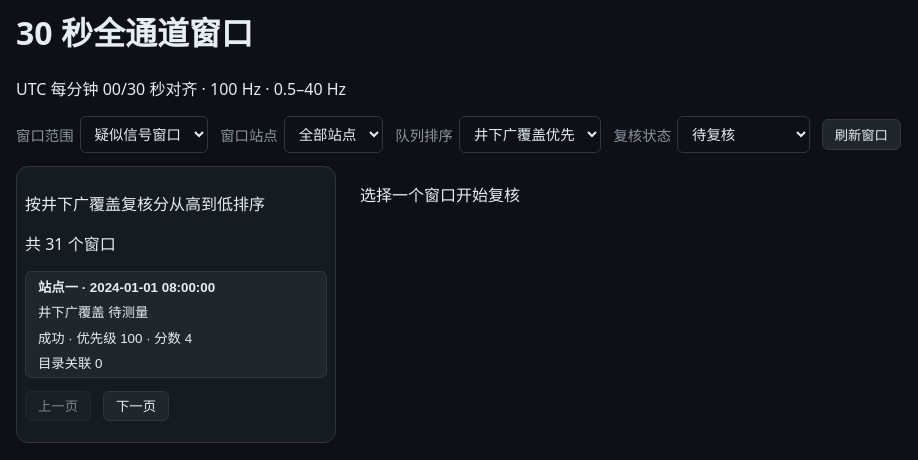
Scenario: resets the page when changing sorting and retains the selected station and review filter
This screenshot has width=918, height=460.
Select "站点一" in the dropdown labelled "窗口站点". click: (334, 135)
box: [284,116,383,153]
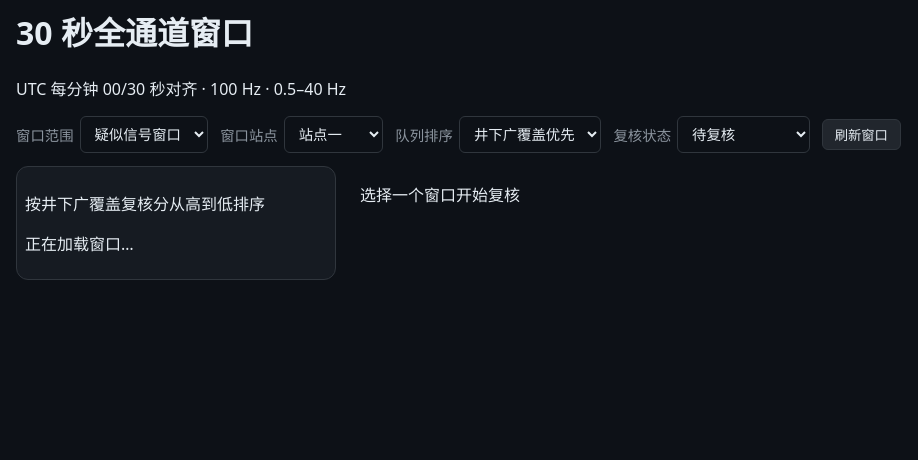
Select "已复核·地震类" in the dropdown labelled "复核状态". click: (744, 135)
box: [677,116,810,153]
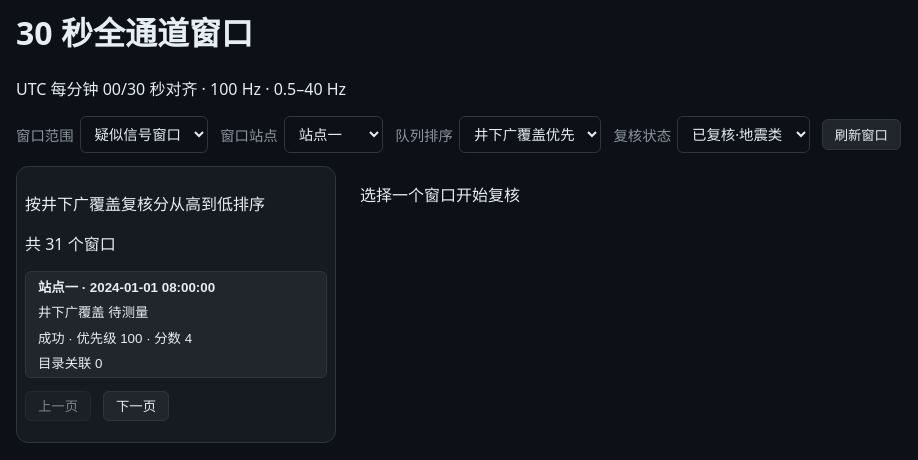
Click the button with aria-label "下一页窗口". click: (136, 406)
box: [103,391,169,421]
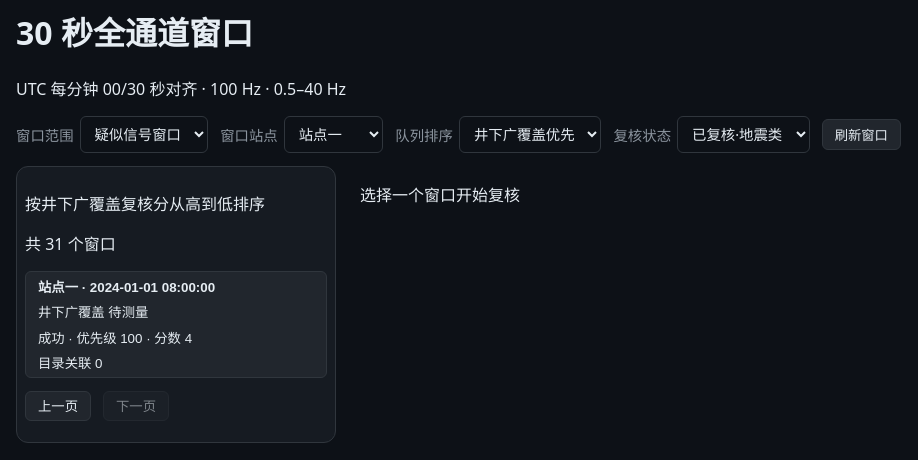
Select "原有排序" in the dropdown labelled "队列排序". click: (530, 135)
box: [459,116,602,153]
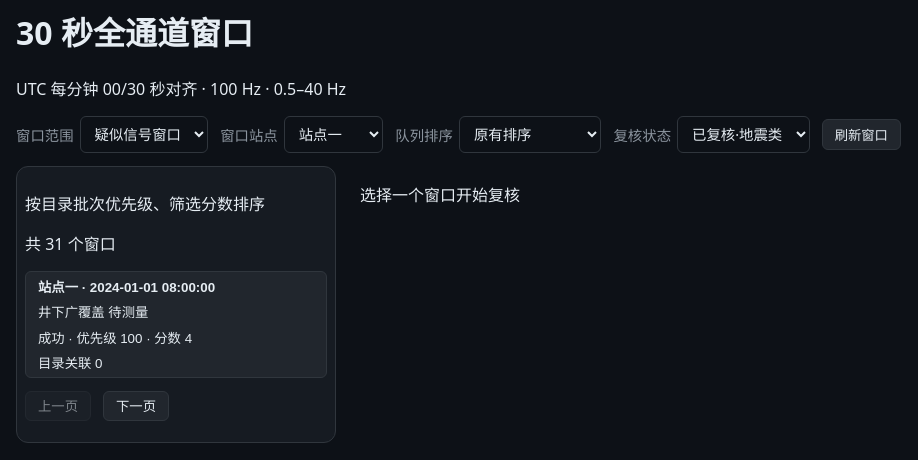
Now the button with aria-label "上一页窗口" is disabled, box [25,391,91,421]
